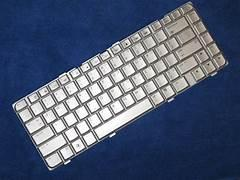keyboard: (11, 0, 229, 171)
